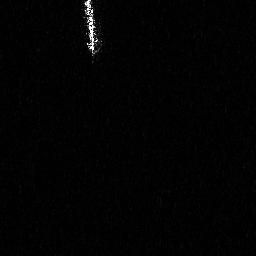ship: (80, 1, 101, 57)
